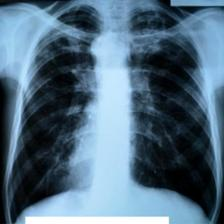tuberculosis: (4, 4, 222, 221)
